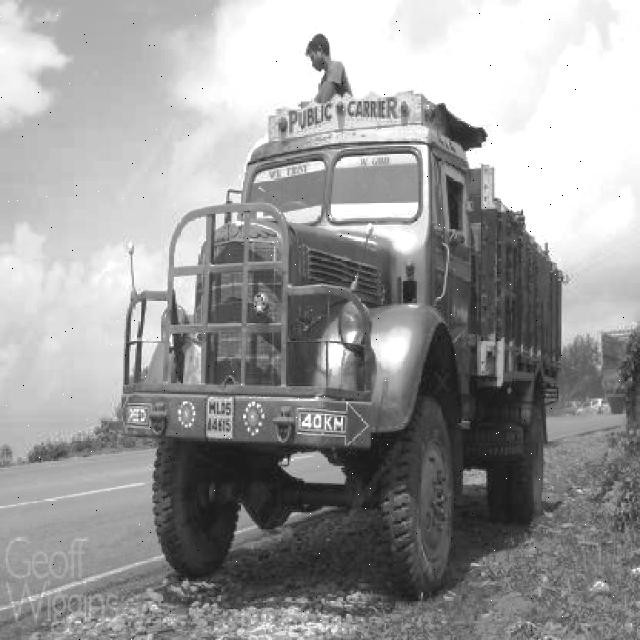HCV: (169, 66, 560, 582)
